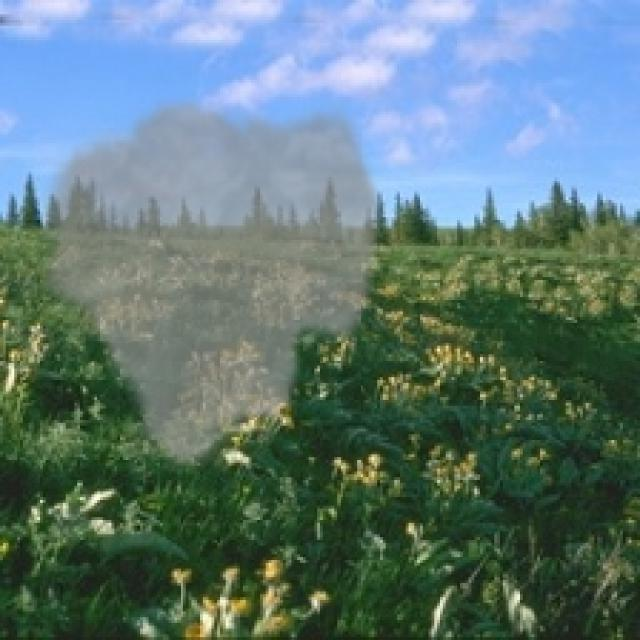smoke: (31, 94, 388, 477)
